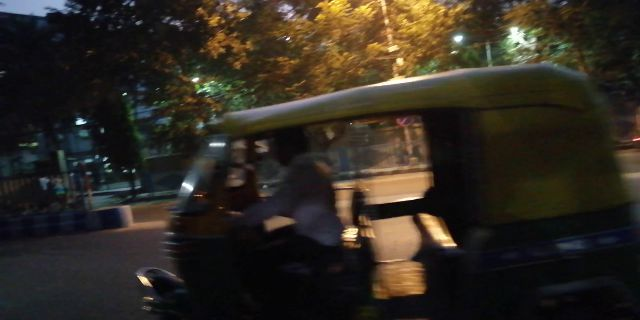Autorickshaw: (137, 70, 607, 306)
